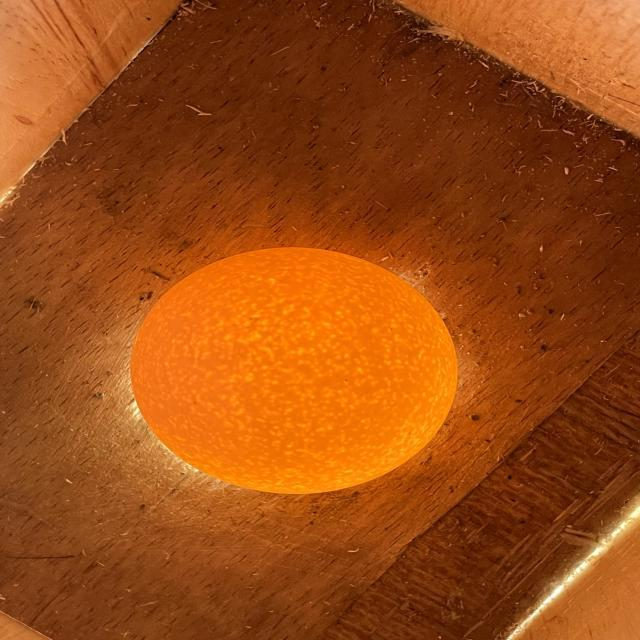Eggs: (130, 248, 459, 494)
